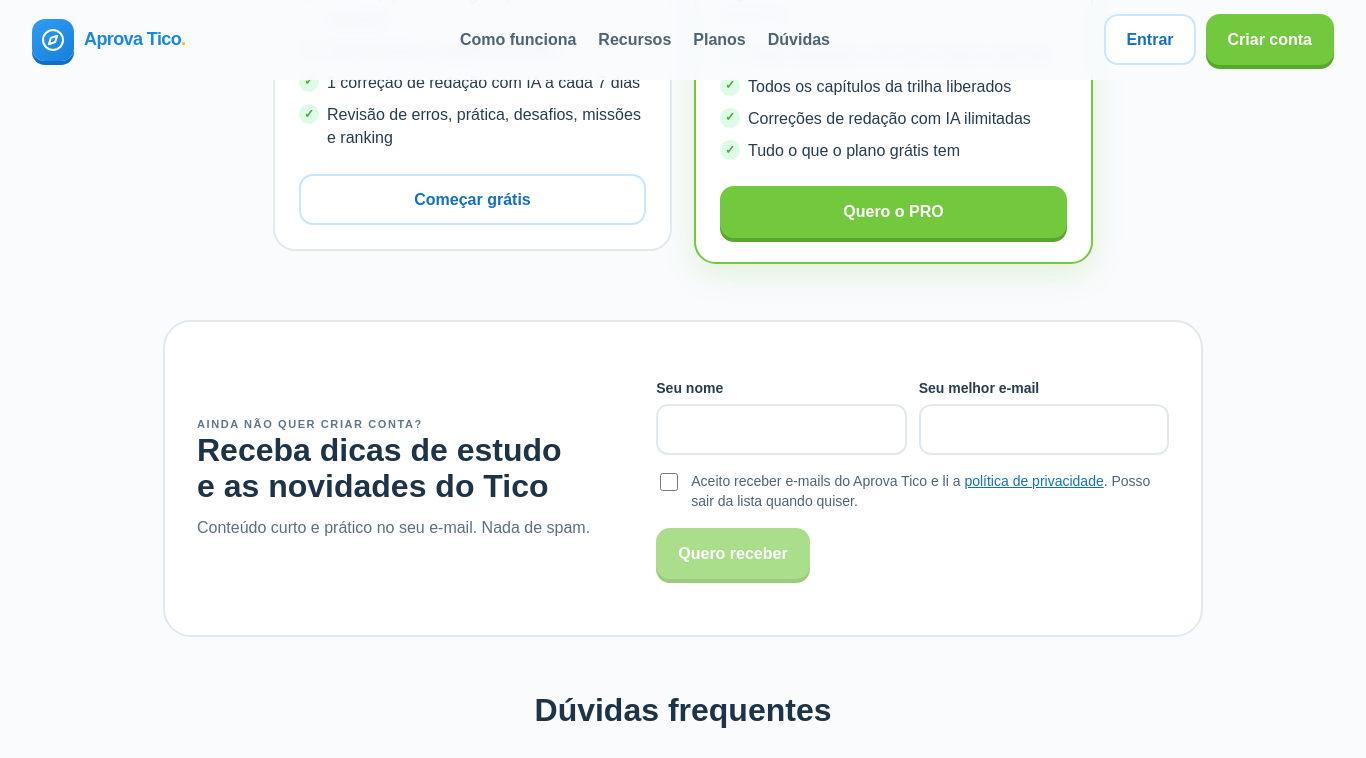
Scenario: captura de e-mail › com autorização, envia e mostra a confirmação
(page scrolled)
Type "Maria" into the field labelled "Seu nome" at (782, 430), box [656,404,907,455]
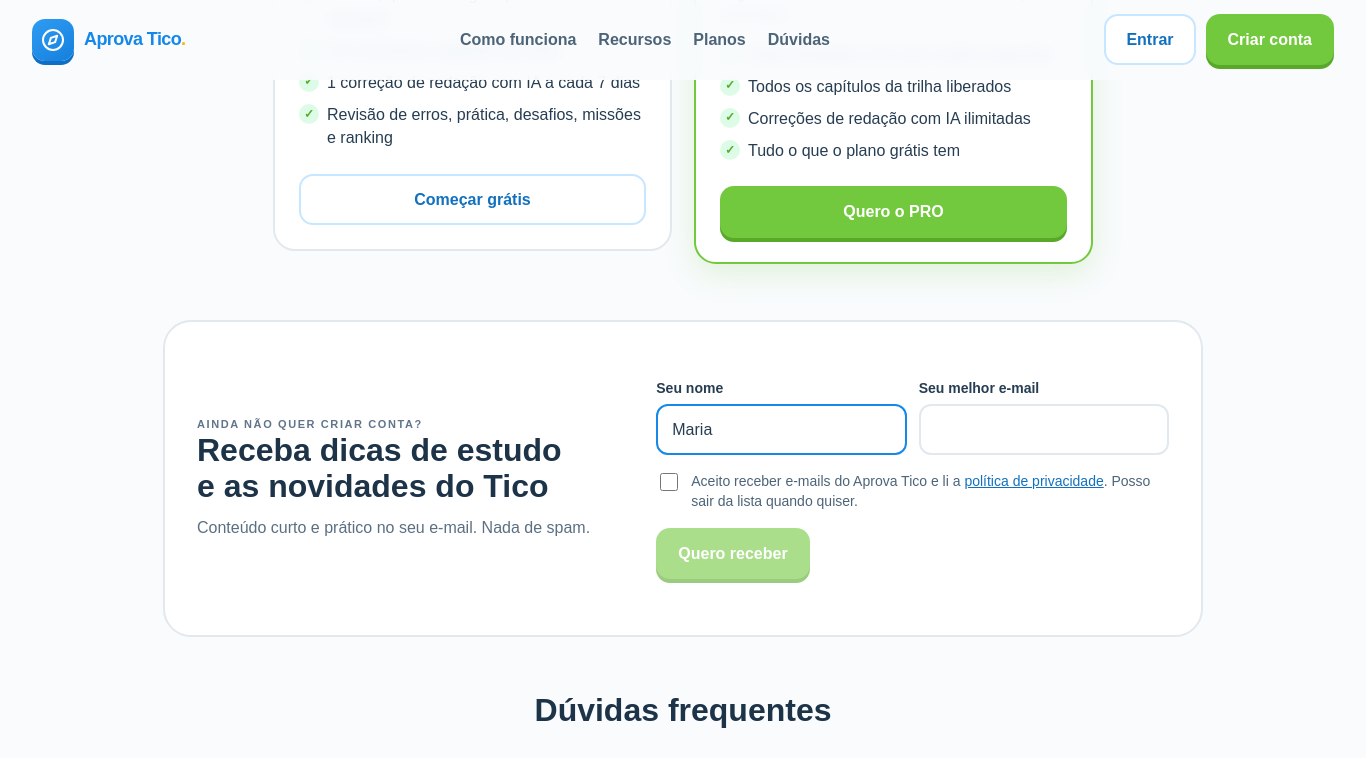
Type "maria@teste.dev" into the field labelled "Seu melhor e-mail" at (1044, 430), box [919,404,1169,455]
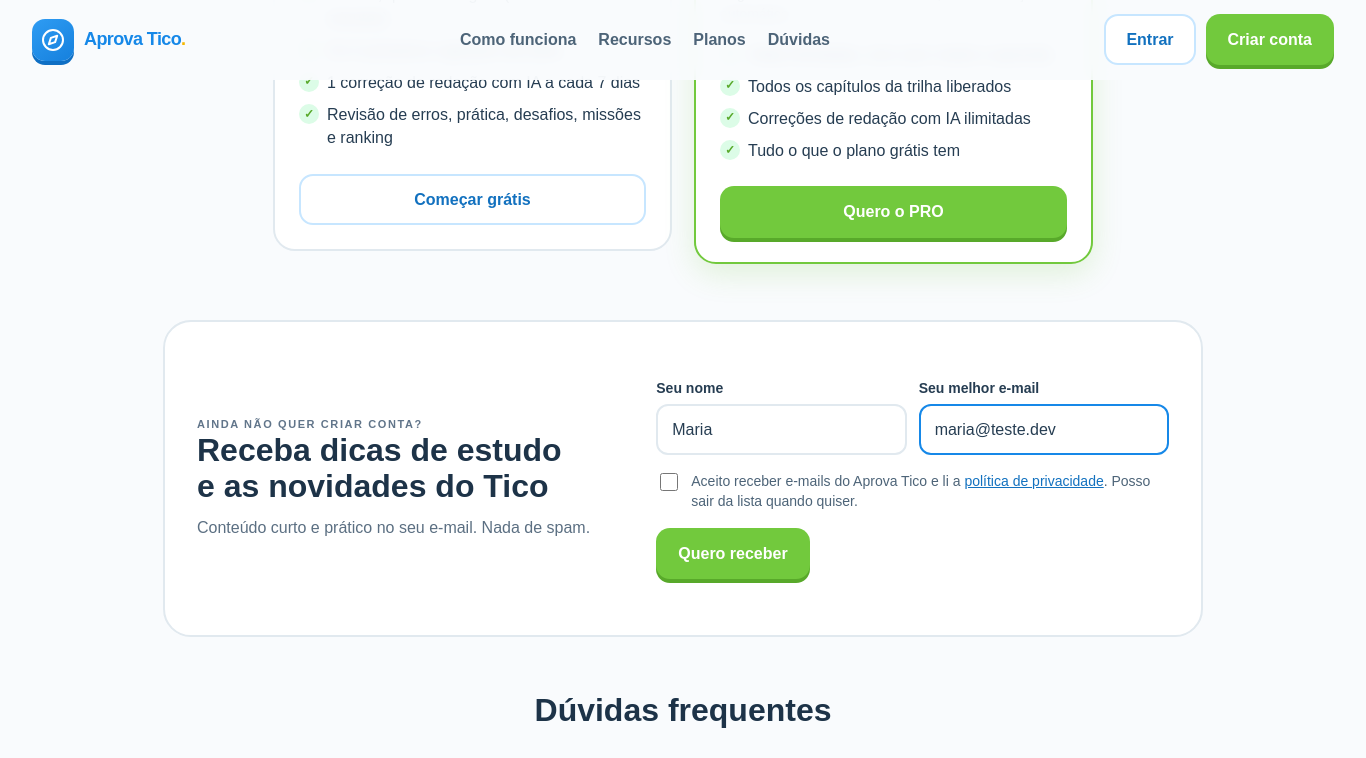
Click the checkbox labelled "Aceito receber e-mails" at (669, 482), box [660,473,678,491]
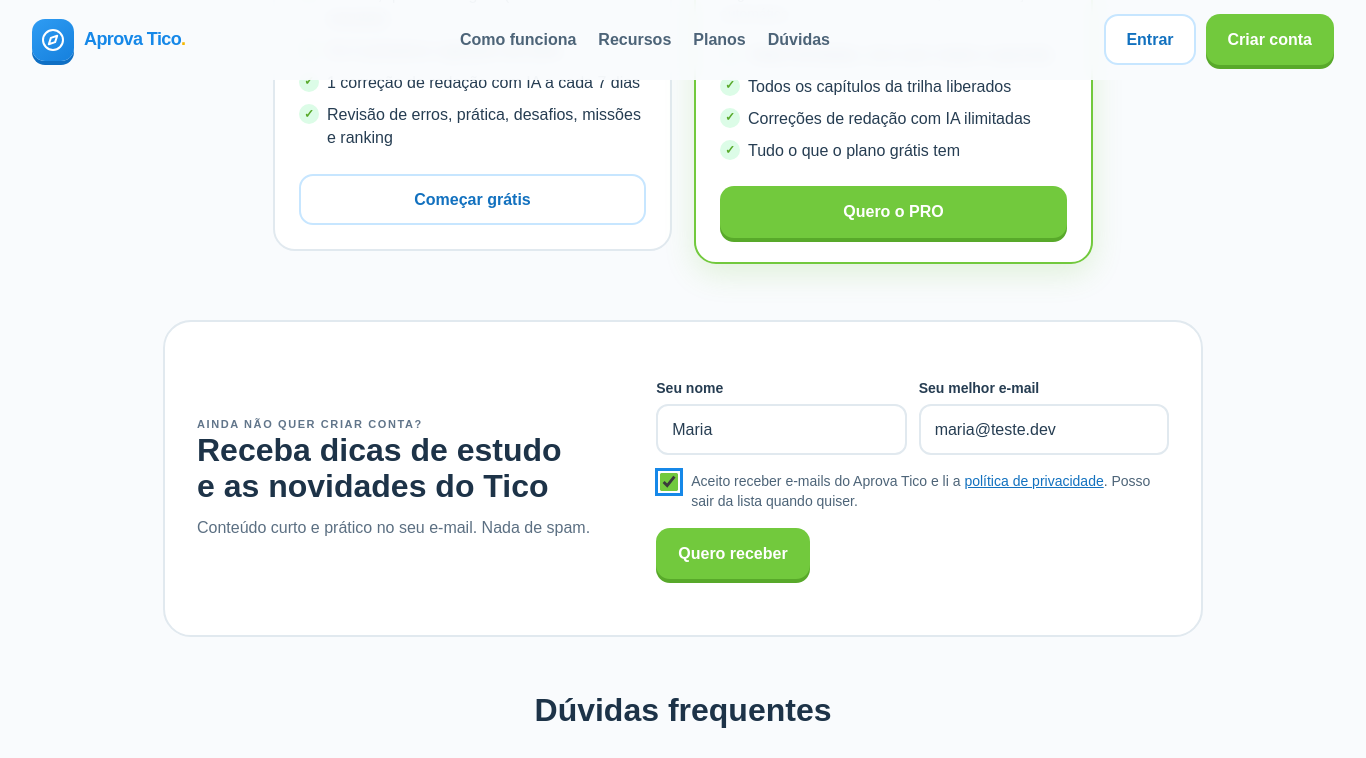
Click the button "Quero receber" at (733, 553), box [656,528,810,579]
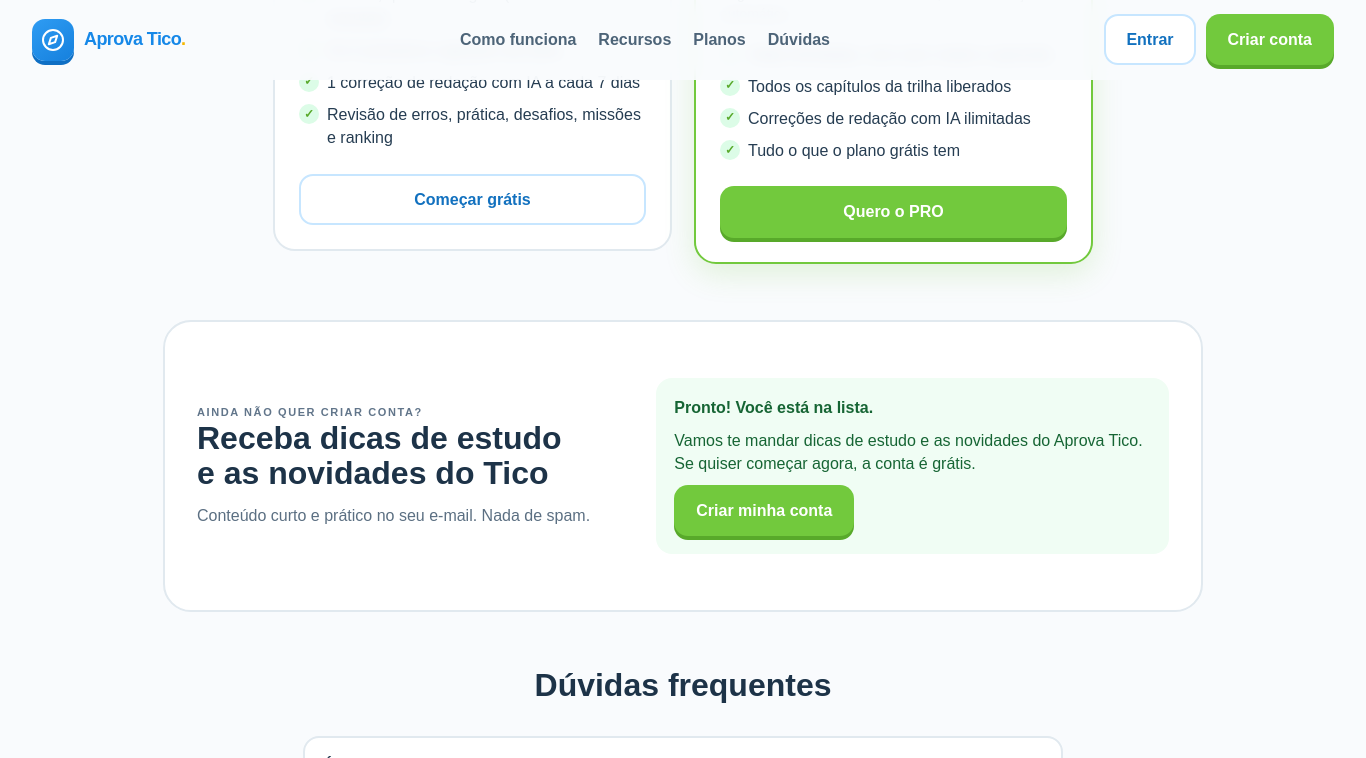
Now the text "Pronto! Você está na lista." is shown, box [674,396,873,419]
